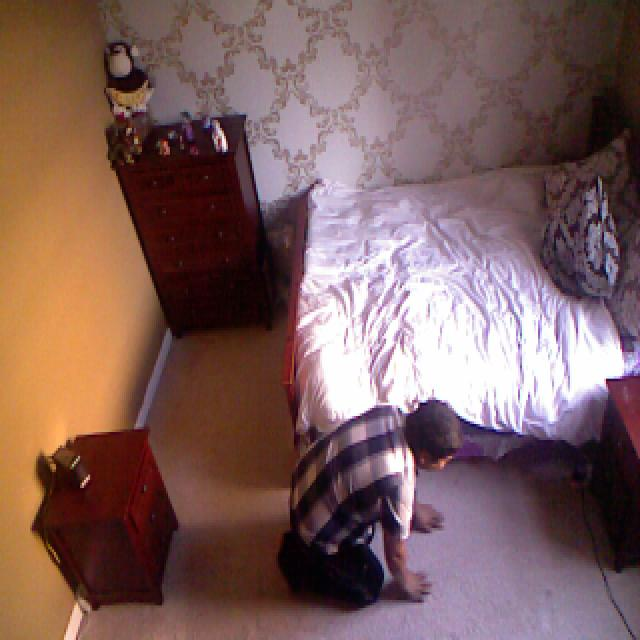crawling: (274, 401, 468, 604)
